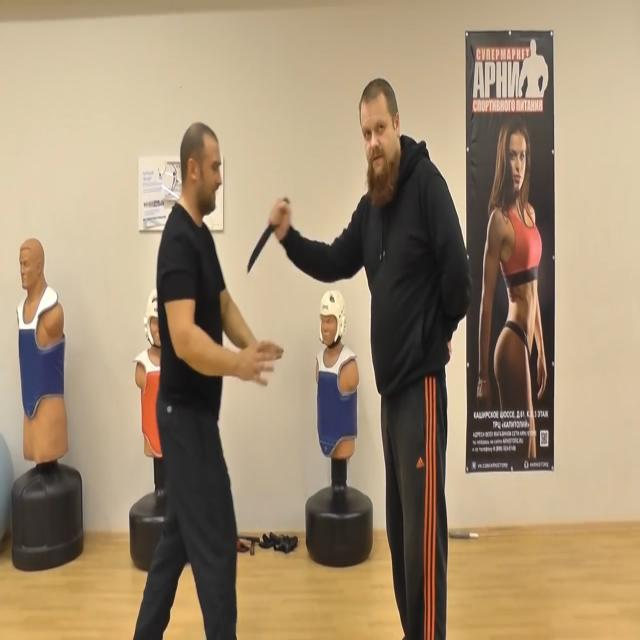knife: (246, 196, 292, 278)
